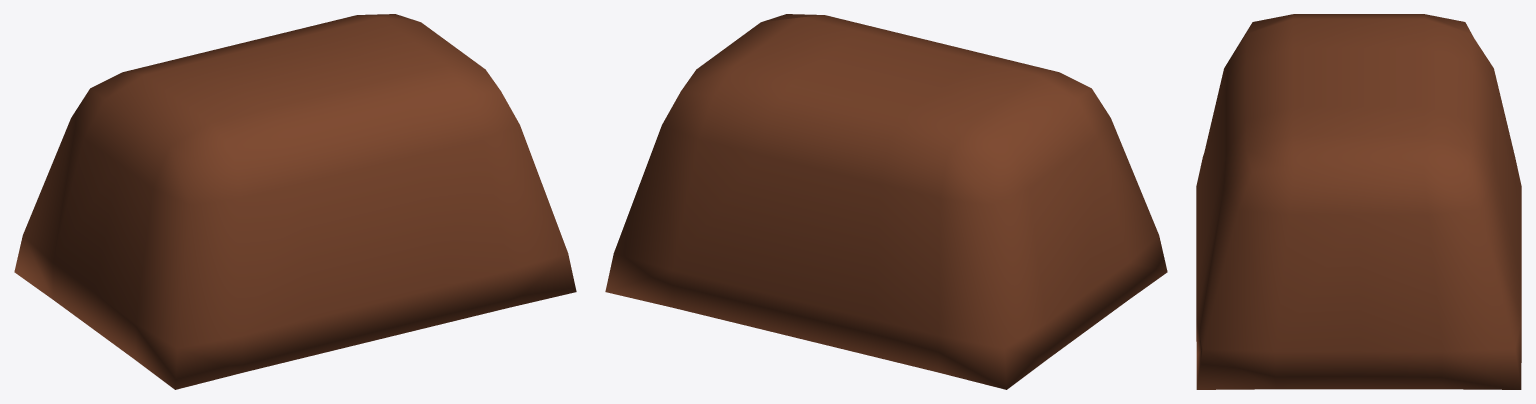
File: candy_assets53.fbx
The picture shows the model from 3 angles, left to right: view 1: azimuth 30°, elevation 25°; view 2: azimuth 150°, elevation 25°; view 3: azimuth 270°, elevation 25°; orthographic projection.
Parts seen in each view (by area): view 1: candy_assets53; view 2: candy_assets53; view 3: candy_assets53.
Boxes of the visible parts, box(x1,y1,x2,y2) form: candy_assets53: box(14, 14, 576, 389); candy_assets53: box(605, 14, 1167, 389); candy_assets53: box(1196, 14, 1521, 389).
Size of the model in its own units: 655 by 330 by 455.
Materials: 1 (1 with a texture image).
